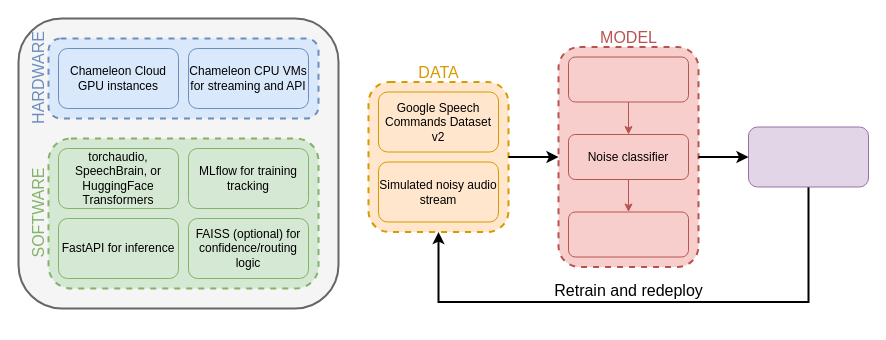
This 886x340 diagram has some shape labels left out. The shapes that lost their labels are listed below. From the top down, each one's centre as x and y in pixels, then its label:
At point 628,79: "Feature extractor".
At point 808,156: "Recognized command".
At point 628,234: "Command classifier".
